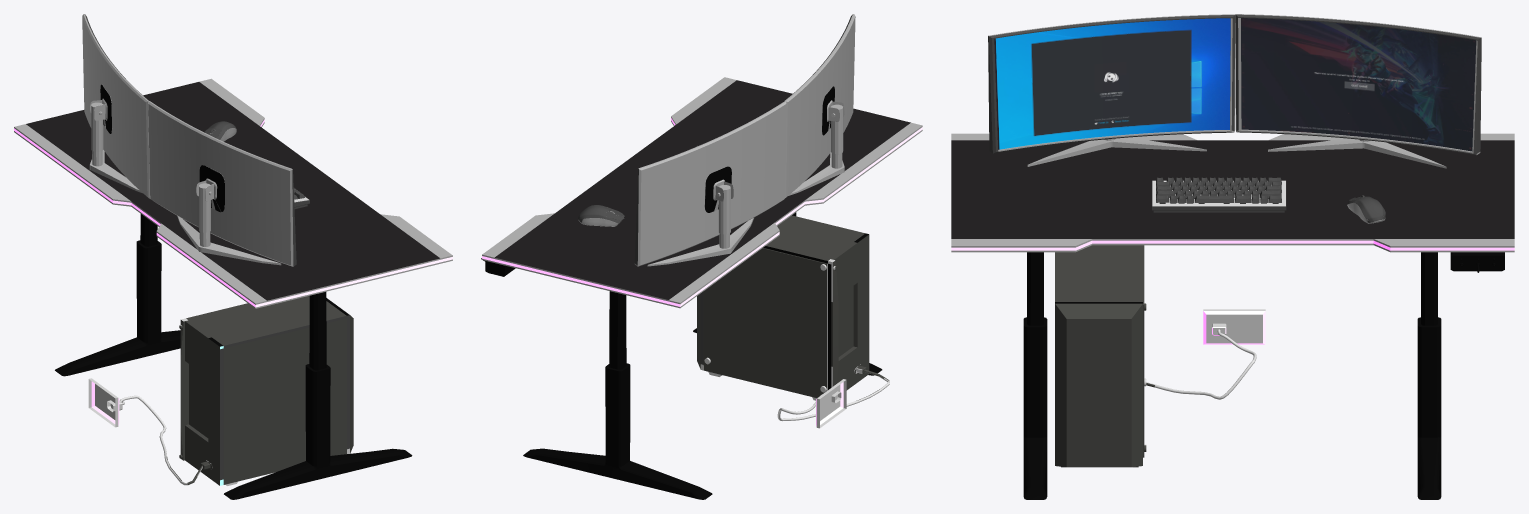
Rendered from pcTable.glb.
3 renders of one model, left to right at view 1: azimuth 30°, elevation 25°; view 2: azimuth 150°, elevation 25°; view 3: azimuth 270°, elevation 25°, orthographic. The views are drawn at different scales.
Parts seen in each view (by area): view 1: PCTable; view 2: PCTable; view 3: PCTable.
Part boxes in pixels (left/top/right/bottom): PCTable: left=14, top=14, right=452, bottom=499; PCTable: left=481, top=14, right=922, bottom=499; PCTable: left=951, top=14, right=1514, bottom=499.
Size of the model in its own units: 3.42 by 4.53 by 5.98.
22 materials, 1 textured.
